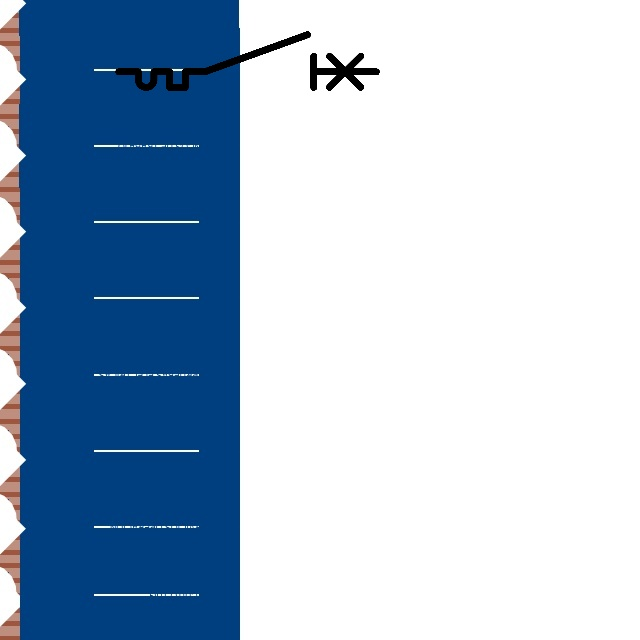interruptor_termomagnetico: (112, 28, 383, 94)
